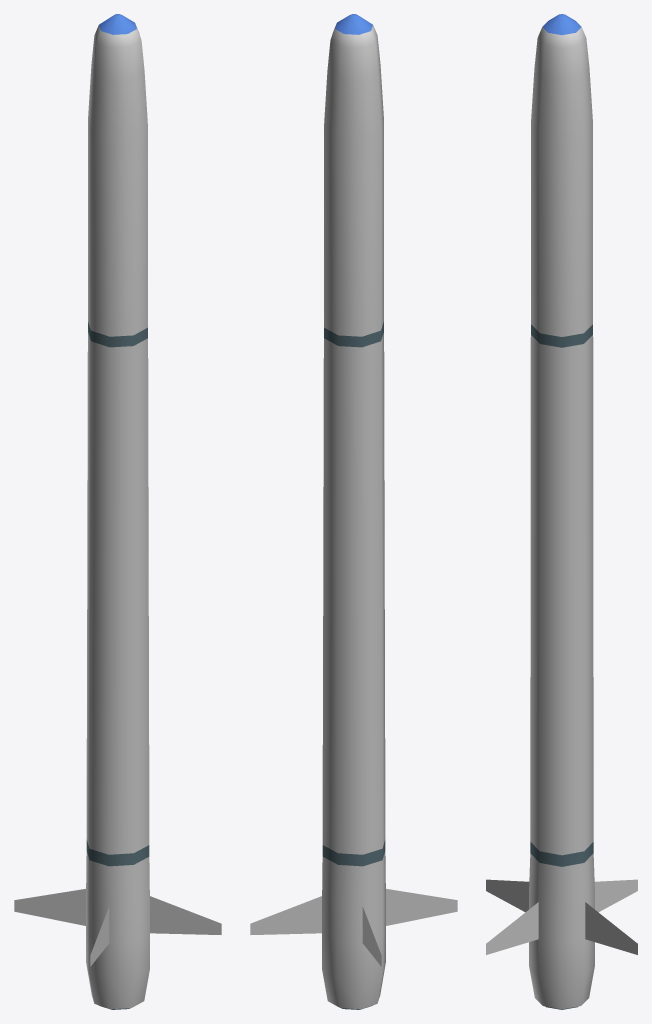
The model's file is aim-132-asraam.glb.
The picture shows the model from 3 angles, left to right: view 1: azimuth 30°, elevation 25°; view 2: azimuth 150°, elevation 25°; view 3: azimuth 270°, elevation 25°; orthographic projection.
Parts seen in each view (by area): view 1: AIM-132 Asraam; view 2: AIM-132 Asraam; view 3: AIM-132 Asraam.
Part boxes in pixels (x1,y1,x2,y2): AIM-132 Asraam: (14,14,221,1009); AIM-132 Asraam: (250,14,457,1009); AIM-132 Asraam: (486,14,637,1009).
Bounding box in the file's own units: 0.3349 × 2.4 × 0.3349.
